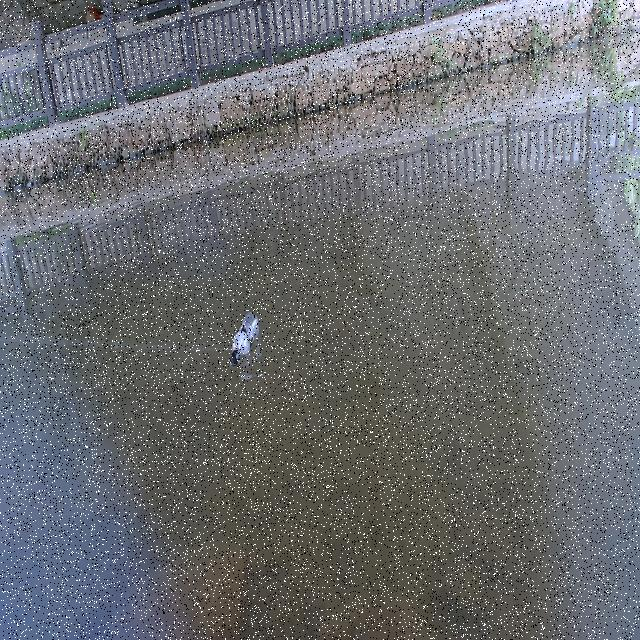Bottle: (226, 308, 261, 368)
